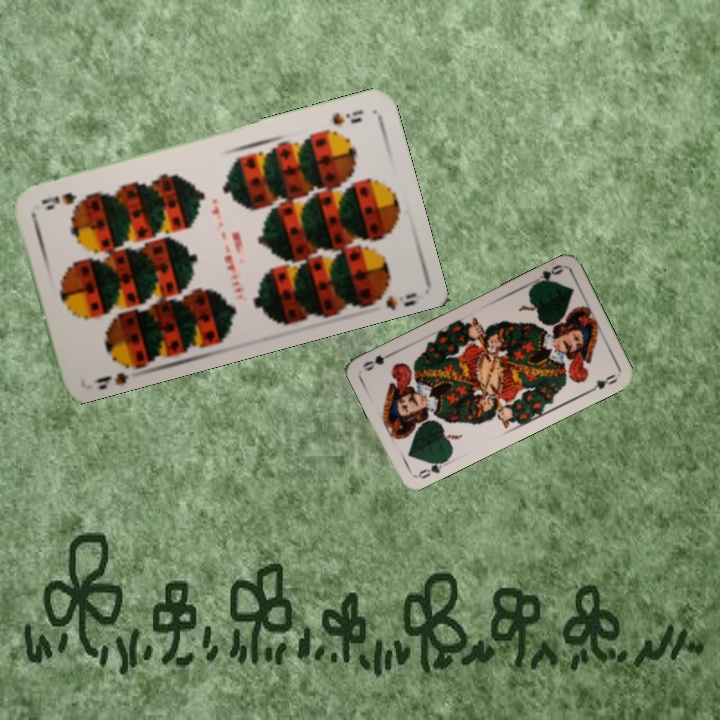GO: (527, 260, 566, 288), (412, 455, 450, 481)
S9: (89, 354, 141, 391), (328, 105, 366, 128)
